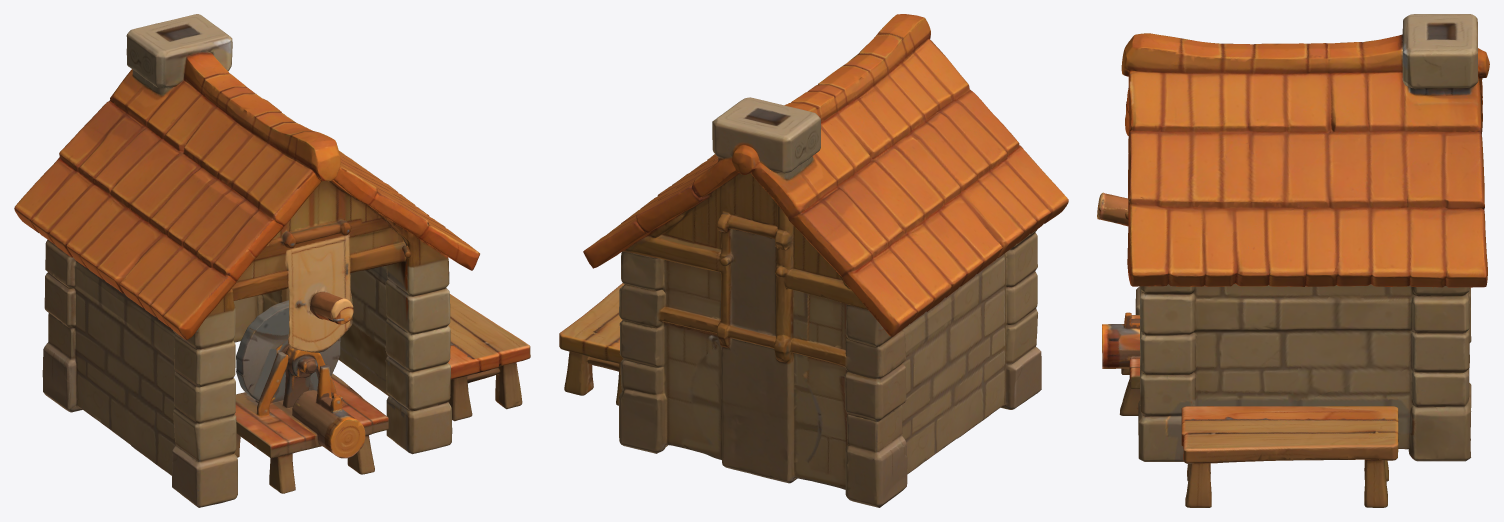
Rendered from woodworkshop.glb.
3 views of the same model, side by side, from view 1: azimuth 30°, elevation 25°; view 2: azimuth 150°, elevation 25°; view 3: azimuth 270°, elevation 25° (orthographic). The views are drawn at different scales.
Size of the model in its own units: 1.95 by 1.68 by 1.65.
Materials: 1 (1 with a texture image).
